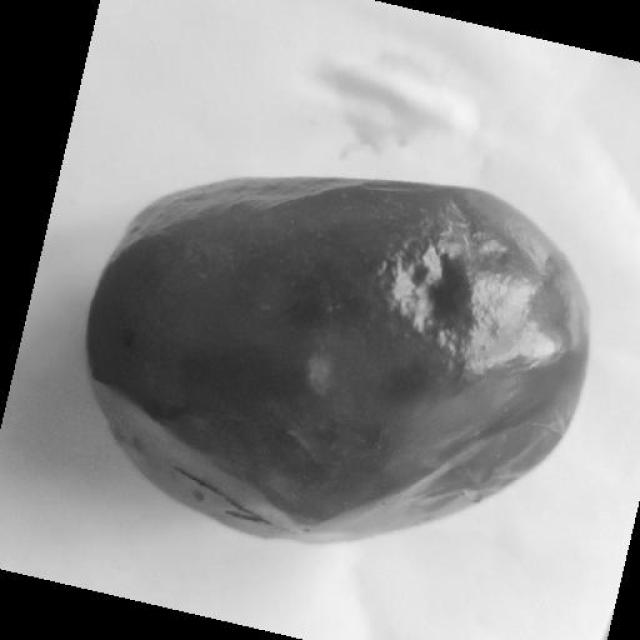Stale_tomato: (112, 156, 592, 519)
